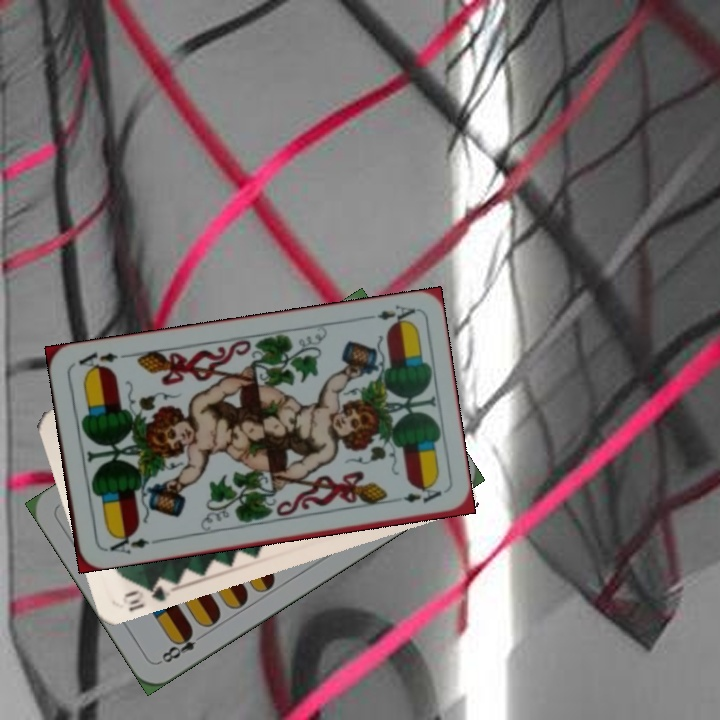E8: (155, 626, 209, 666)
EA: (359, 301, 418, 329), (101, 528, 152, 557)
G10: (120, 574, 176, 613)
